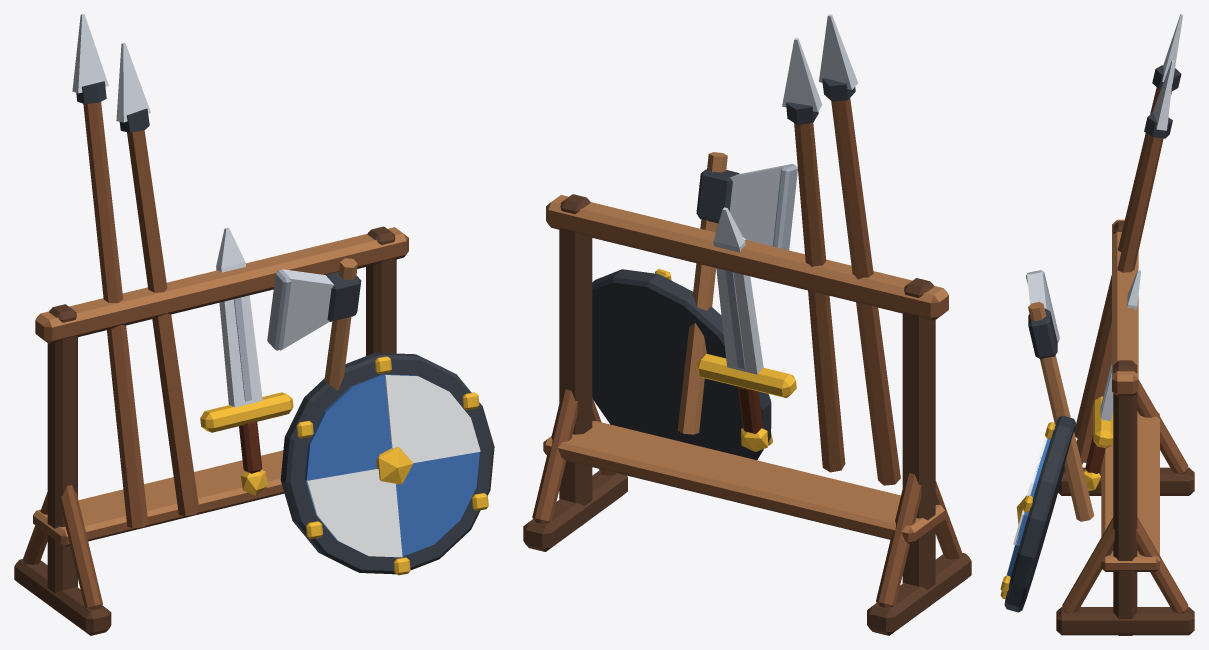
File: Prop_WeaponRack.fbx
3 views of the same model, side by side, from view 1: azimuth 30°, elevation 25°; view 2: azimuth 150°, elevation 25°; view 3: azimuth 270°, elevation 25° (orthographic). The views are drawn at different scales.
Visible parts, largest first — view 1: Prop_WeaponRack.002; view 2: Prop_WeaponRack.002; view 3: Prop_WeaponRack.002.
Part boxes in pixels (<box>): Prop_WeaponRack.002: <box>14,14,494,635</box>; Prop_WeaponRack.002: <box>523,14,971,635</box>; Prop_WeaponRack.002: <box>1000,14,1194,635</box>.
Size of the model in its own units: 1.55 by 2.08 by 0.7298.
